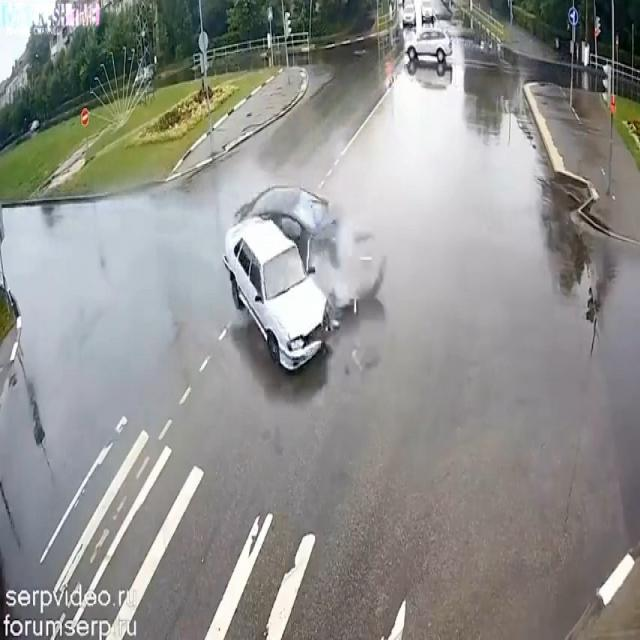Accident: (213, 165, 379, 386)
